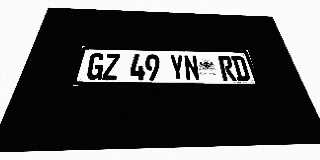4: (130, 54, 145, 80)
9: (145, 54, 160, 80)
D: (231, 56, 251, 81)
G: (85, 53, 105, 80)
N: (183, 55, 200, 80)
R: (218, 55, 237, 81)
Y: (169, 54, 185, 80)
Z: (102, 53, 120, 80)
